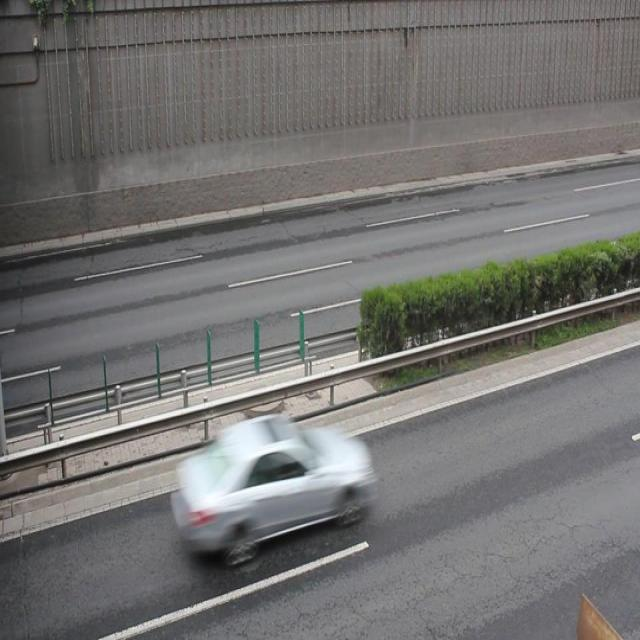car: (177, 412, 375, 560)
